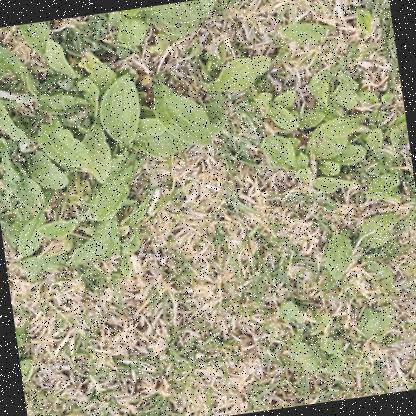Weeds: (0, 0, 415, 326), (277, 286, 402, 381)
